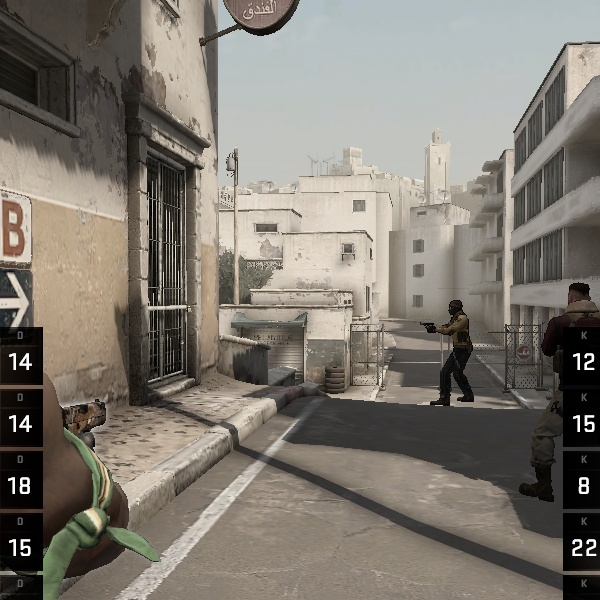t_body: (530, 279, 575, 501), (423, 295, 477, 405)
t_head: (567, 280, 597, 309), (448, 298, 464, 319)
